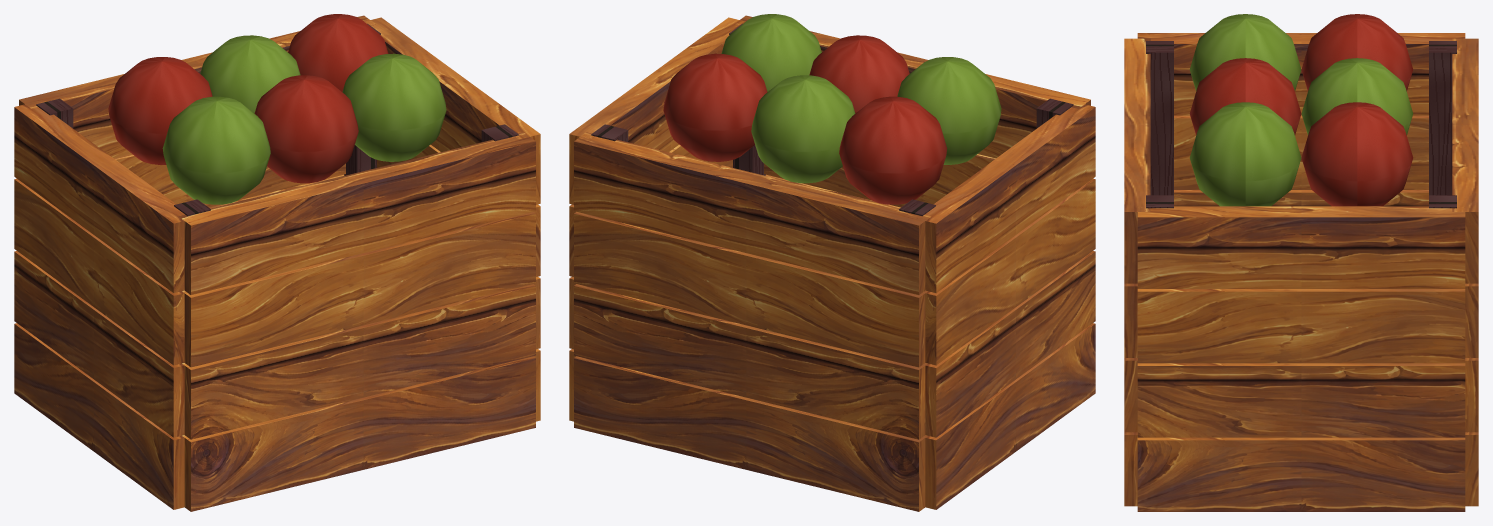
File: Vegetable_Crate.fbx
3 renders of one model, left to right at view 1: azimuth 30°, elevation 25°; view 2: azimuth 150°, elevation 25°; view 3: azimuth 270°, elevation 25°, orthographic. The views are drawn at different scales.
Visible parts, largest first — view 1: Crate long side board.046, Crate long side board.044, Crate long side board.040, Crate long side board.042, Crate short side board.046, Crate short side board.044, Crate short side board.040, Crate short side board.042, Crated fresh apple, Crated fresh apple.001, Crated fresh apple.002, Crated fresh apple.003 (+8 smaller); view 2: Crate long side board.047, Crate long side board.045, Crate long side board.041, Crate long side board.043, Crate short side board.046, Crate short side board.040, Crate short side board.044, Crate short side board.042, Crated fresh apple.003, Crated fresh apple.004, Crated fresh apple.005, Crated fresh apple (+8 smaller); view 3: Crate short side board.047, Crate short side board.043, Crate short side board.041, Crate short side board.045, Crated fresh apple.002, Crated fresh apple.005, Crate long side board.046, Crate long side board.047, Crated fresh apple, Crated fresh apple.003, Crated fresh apple.001, Crated fresh apple.004 (+11 smaller).
Boxes of the visible parts, left/top/right/bottom form: Crate long side board.046: left=178, top=132, right=535, bottom=294; Crate long side board.044: left=182, top=211, right=535, bottom=367; Crate long side board.040: left=182, top=356, right=535, bottom=511; Crate long side board.042: left=182, top=284, right=535, bottom=439; Crate short side board.046: left=14, top=104, right=188, bottom=293; Crate short side board.044: left=14, top=178, right=186, bottom=365; Crate short side board.040: left=14, top=323, right=184, bottom=509; Crate short side board.042: left=14, top=251, right=185, bottom=437; Crated fresh apple: left=162, top=96, right=270, bottom=204; Crated fresh apple.001: left=254, top=75, right=358, bottom=183; Crated fresh apple.002: left=342, top=53, right=446, bottom=161; Crated fresh apple.003: left=108, top=57, right=212, bottom=164; Crate long side board.047: left=574, top=132, right=931, bottom=294; Crate long side board.045: left=574, top=211, right=927, bottom=367; Crate long side board.041: left=574, top=356, right=927, bottom=511; Crate long side board.043: left=574, top=284, right=927, bottom=439; Crate short side board.046: left=916, top=104, right=1095, bottom=293; Crate short side board.040: left=925, top=323, right=1095, bottom=509; Crate short side board.044: left=923, top=178, right=1095, bottom=365; Crate short side board.042: left=925, top=251, right=1095, bottom=437; Crated fresh apple.003: left=839, top=96, right=947, bottom=204; Crated fresh apple.004: left=751, top=75, right=855, bottom=183; Crated fresh apple.005: left=663, top=53, right=767, bottom=161; Crated fresh apple: left=897, top=57, right=1001, bottom=164; Crate short side board.047: left=1137, top=206, right=1465, bottom=288; Crate short side board.043: left=1137, top=363, right=1465, bottom=437; Crate short side board.041: left=1137, top=437, right=1465, bottom=511; Crate short side board.045: left=1137, top=289, right=1465, bottom=363; Crated fresh apple.002: left=1189, top=102, right=1301, bottom=206; Crated fresh apple.005: left=1301, top=102, right=1413, bottom=206; Crate long side board.046: left=1124, top=38, right=1150, bottom=283; Crate long side board.047: left=1452, top=38, right=1478, bottom=283; Crated fresh apple: left=1189, top=14, right=1301, bottom=91; Crated fresh apple.003: left=1301, top=14, right=1413, bottom=91; Crated fresh apple.001: left=1189, top=58, right=1301, bottom=135; Crated fresh apple.004: left=1301, top=58, right=1413, bottom=135.
Bounding box in the file's own units: 117 × 106 × 95.
